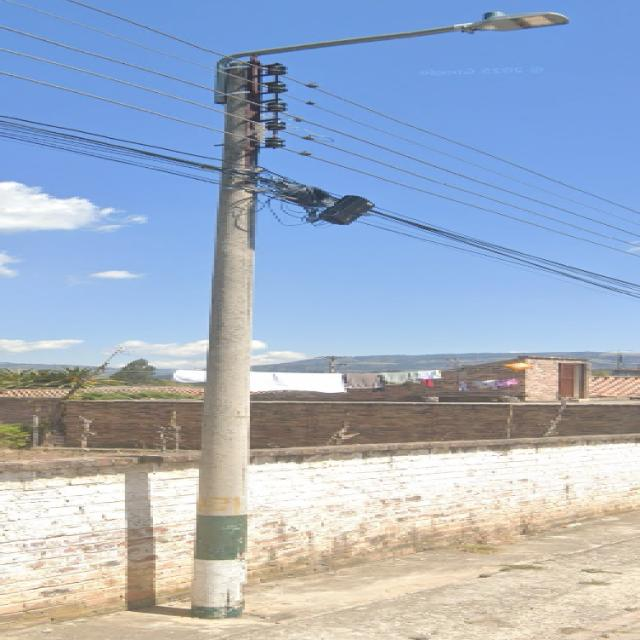Fachada: (352, 356, 586, 401)
Poste: (194, 12, 569, 618)
